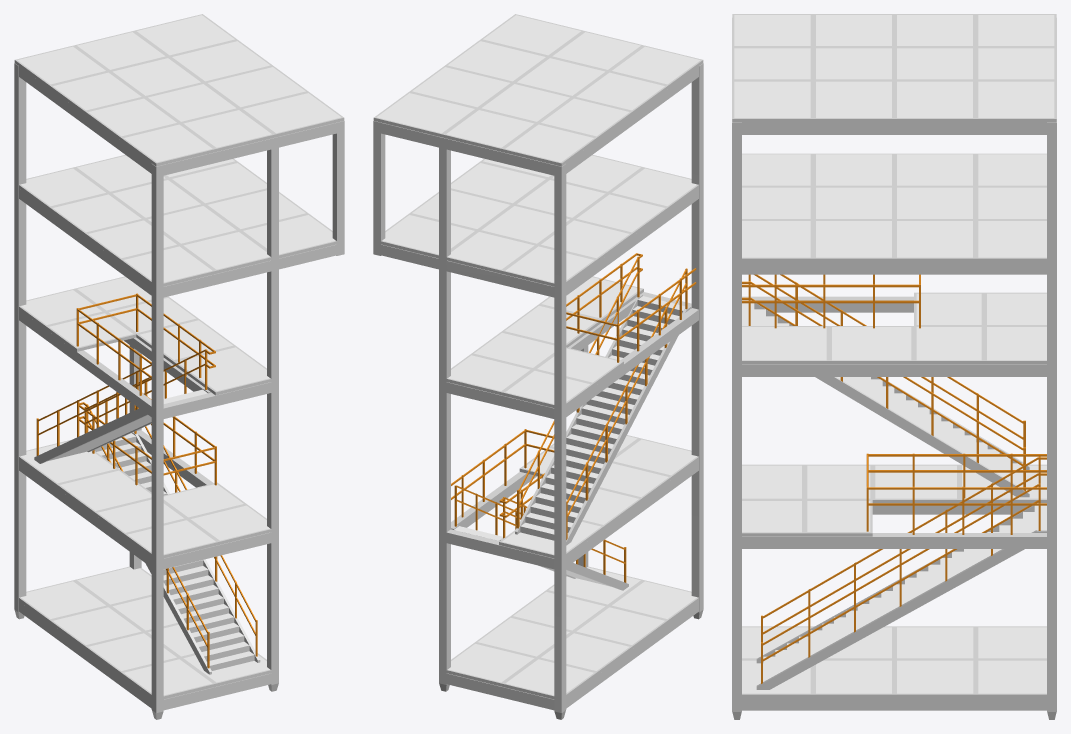
File: SM_H_Building_Tide_DeepJail_04_Shelf_01c_ATLAS.fbx
3 views of the same model, side by side, from view 1: azimuth 30°, elevation 25°; view 2: azimuth 150°, elevation 25°; view 3: azimuth 270°, elevation 25° (orthographic). The views are drawn at different scales.
Parts seen in each view (by area): view 1: SM_H_Building_Tide_DeepJail_04_Shelf_01c_ATLAS; view 2: SM_H_Building_Tide_DeepJail_04_Shelf_01c_ATLAS; view 3: SM_H_Building_Tide_DeepJail_04_Shelf_01c_ATLAS.
Part boxes in pixels (x1,y1,x2,y2): SM_H_Building_Tide_DeepJail_04_Shelf_01c_ATLAS: (14, 14, 344, 719); SM_H_Building_Tide_DeepJail_04_Shelf_01c_ATLAS: (373, 14, 703, 719); SM_H_Building_Tide_DeepJail_04_Shelf_01c_ATLAS: (732, 14, 1056, 719).
Bounding box in the file's own units: 495 × 646 × 1400.
